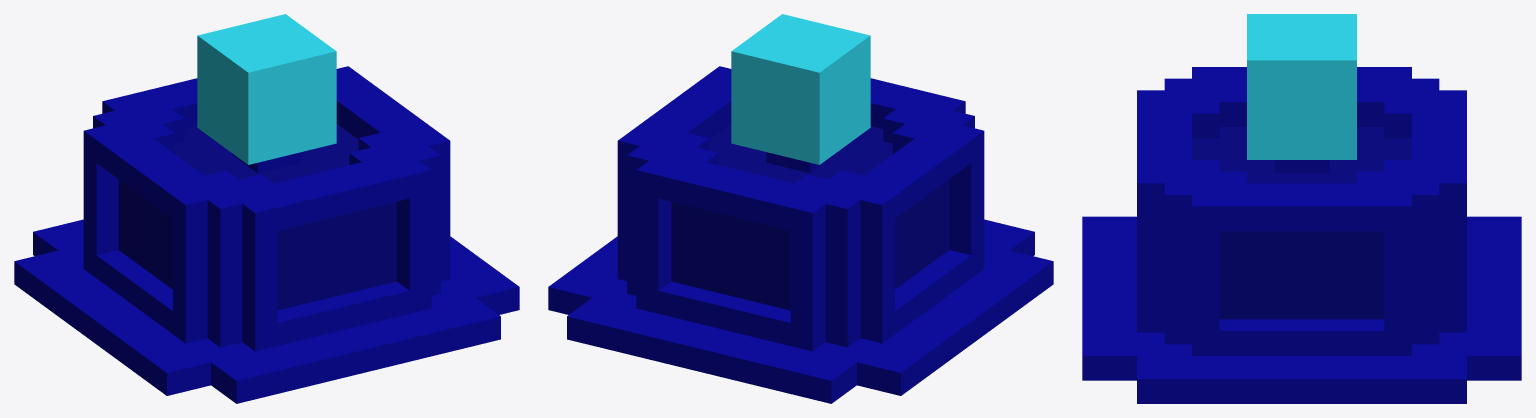
File: slowing_tower.obj
3 views of the same model, side by side, from view 1: azimuth 30°, elevation 25°; view 2: azimuth 150°, elevation 25°; view 3: azimuth 270°, elevation 25° (orthographic). The views are drawn at different scales.
Size of the model in its own units: 1.6 by 1.1 by 1.6.
1 material, 1 textured.
